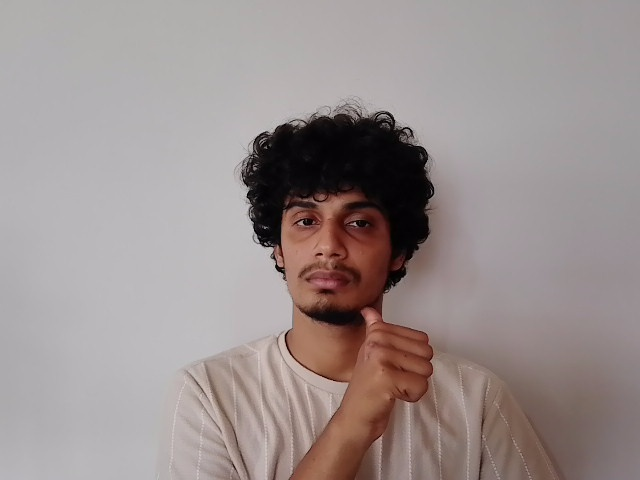not: (275, 278, 435, 401)
